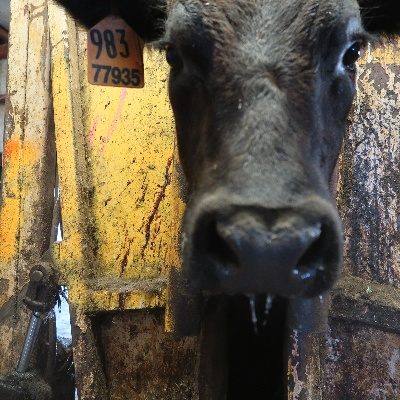fidget_spinner: (191, 201, 333, 303)
